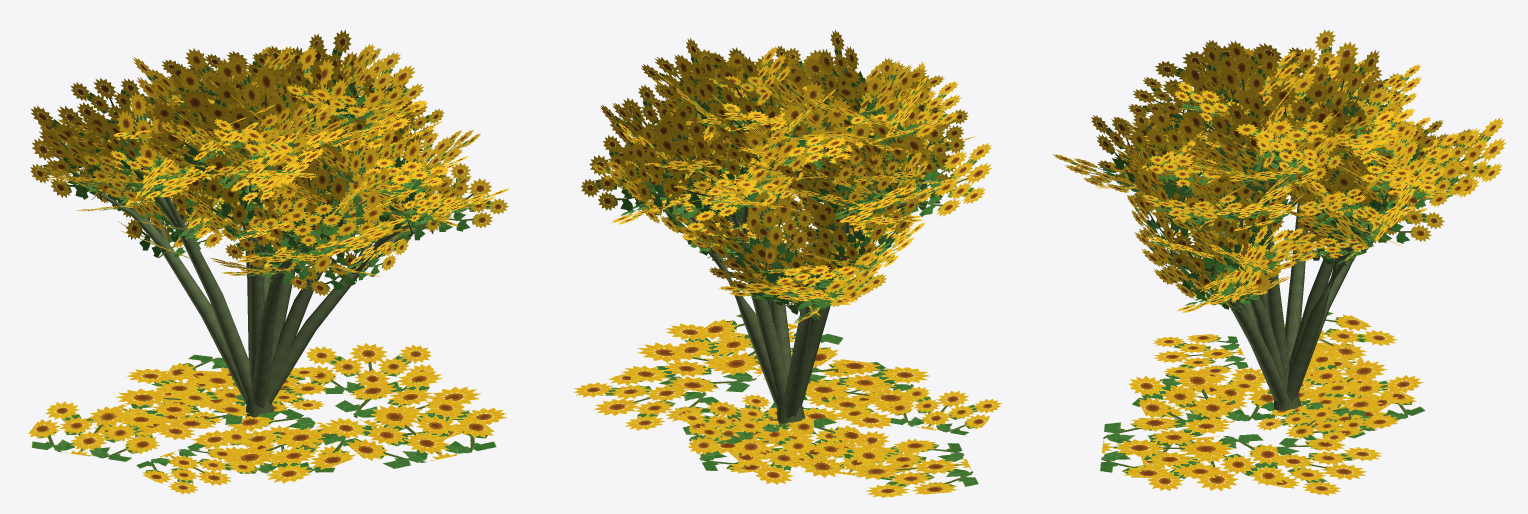
The model's file is da_quy_bush.glb.
3 renders of one model, left to right at view 1: azimuth 30°, elevation 25°; view 2: azimuth 150°, elevation 25°; view 3: azimuth 270°, elevation 25°, orthographic. The views are drawn at different scales.
Visible parts, largest first — view 1: da_quy_bush; view 2: da_quy_bush; view 3: da_quy_bush.
Part boxes in pixels (bbox=[...]): da_quy_bush: bbox=[28, 30, 509, 494]; da_quy_bush: bbox=[573, 29, 1001, 497]; da_quy_bush: bbox=[1052, 29, 1506, 495].
Size of the model in its own units: 3.13 by 2.61 by 3.21.
Materials: 2 (2 with a texture image).
